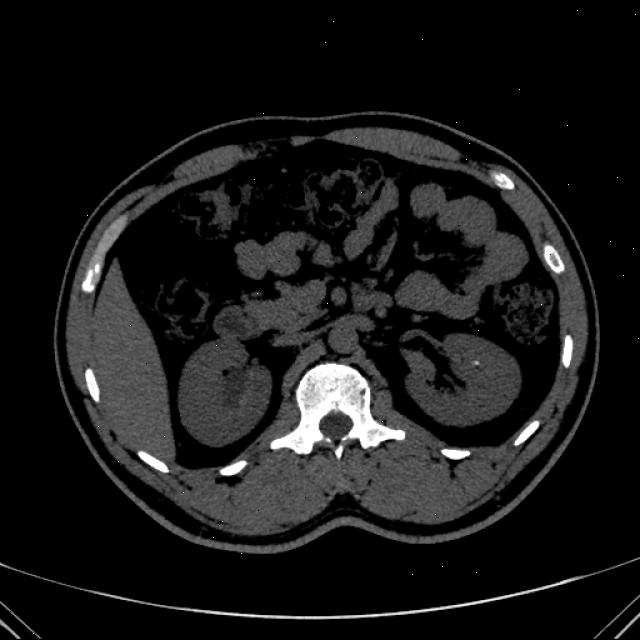kidneystone: (471, 360, 479, 367)
